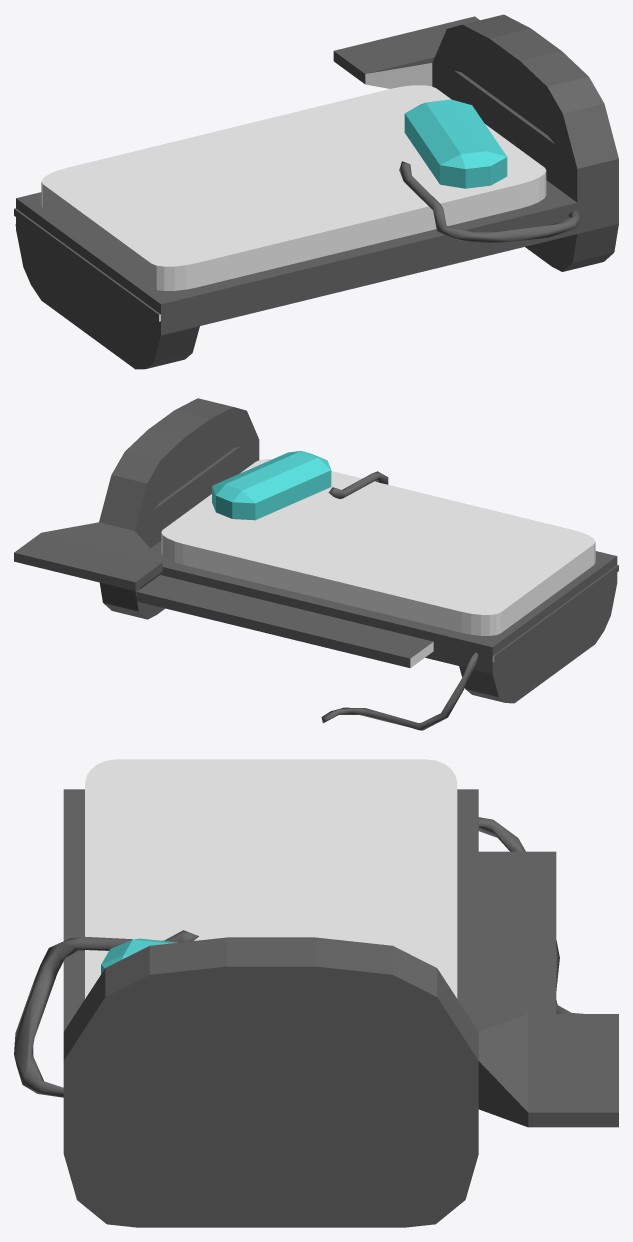
Rendered from Bed.fbx.
3 renders of one model, top to bottom at view 1: azimuth 30°, elevation 25°; view 2: azimuth 150°, elevation 25°; view 3: azimuth 270°, elevation 25°, orthographic. The views are drawn at different scales.
Visible parts, largest first — view 1: Cube; view 2: Cube; view 3: Cube.
Boxes of the visible parts, x1=… form: Cube: x1=14, y1=14, x2=618, y2=369; Cube: x1=14, y1=398, x2=618, y2=730; Cube: x1=14, y1=759, x2=618, y2=1227.
Size of the model in its own units: 1029 by 371 by 739.
